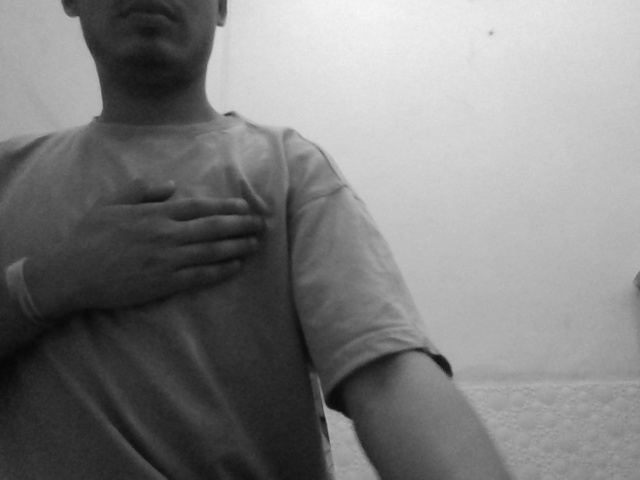Sorry: (41, 158, 307, 337)
